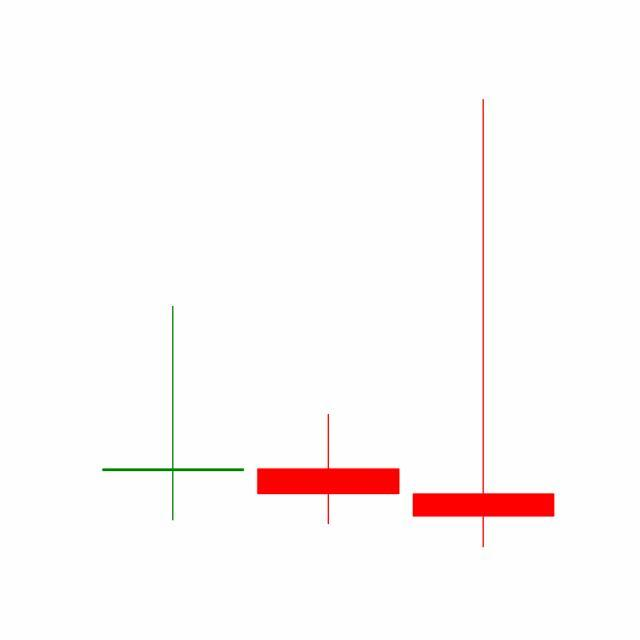Spinning Top: (250, 413, 407, 527)
